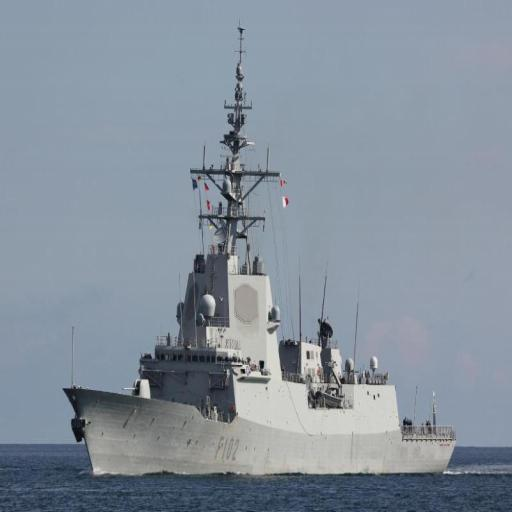Fragata: (55, 27, 462, 497)
